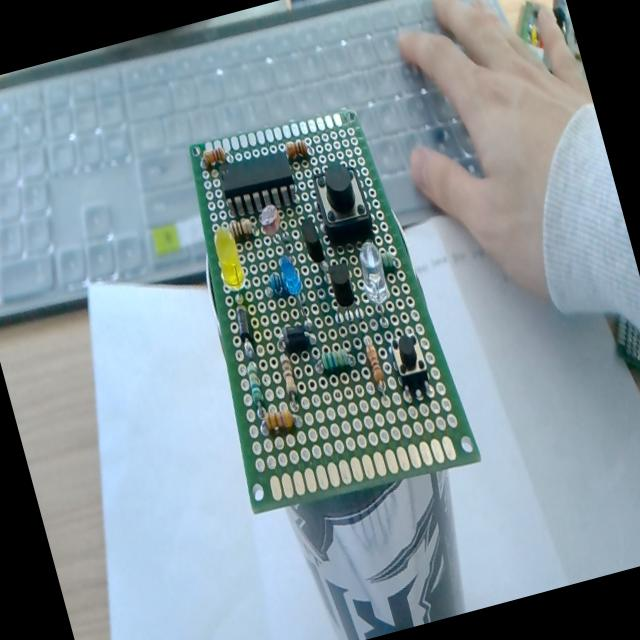IC: (216, 147, 300, 220)
cds: (255, 200, 283, 237)
diode: (231, 304, 257, 354), (280, 323, 314, 360)
led: (352, 238, 394, 308), (276, 251, 312, 325), (210, 224, 248, 292)
resistor: (362, 338, 388, 394), (260, 406, 298, 436), (244, 360, 266, 406), (278, 355, 300, 400), (320, 346, 349, 372), (230, 216, 256, 242), (284, 137, 310, 162), (202, 144, 226, 170), (378, 246, 396, 272)
switch: (308, 157, 376, 250), (384, 328, 434, 405)
transistor: (299, 218, 334, 292), (327, 260, 358, 308)
